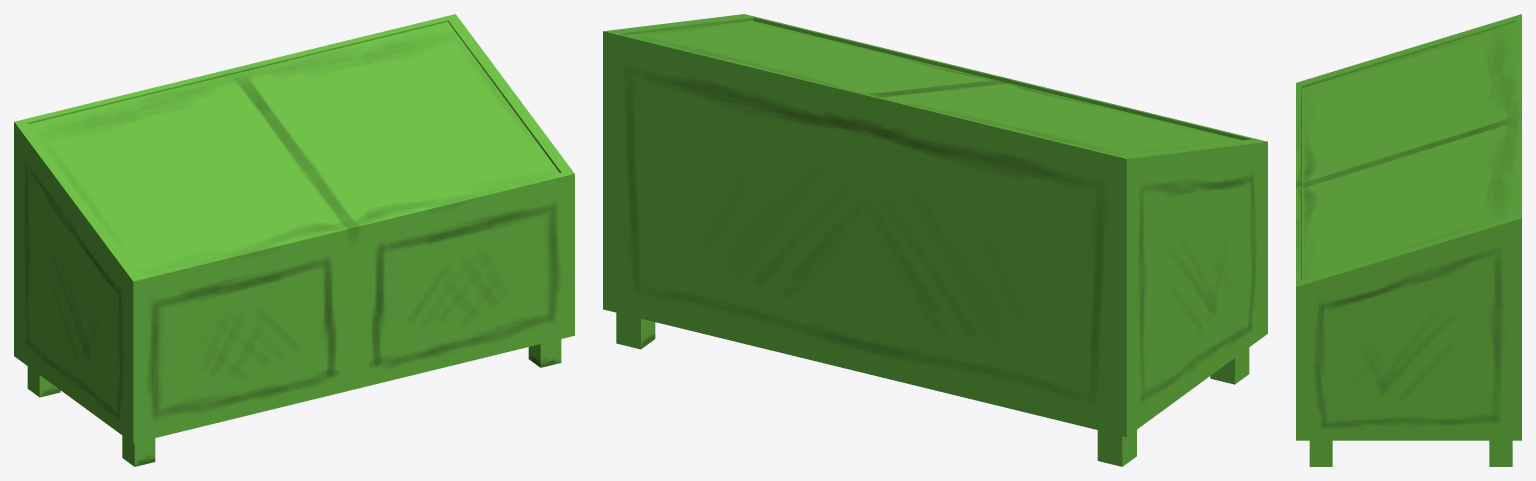
Rendered from Container_Medium.fbx.
The picture shows the model from 3 angles, left to right: view 1: azimuth 30°, elevation 25°; view 2: azimuth 150°, elevation 25°; view 3: azimuth 270°, elevation 25°; orthographic projection. The views are drawn at different scales.
Visible parts, largest first — view 1: Cube.011; view 2: Cube.011; view 3: Cube.011.
Part boxes in pixels (x1,y1,x2,y2): Cube.011: (14,14,574,466); Cube.011: (603,14,1267,466); Cube.011: (1296,14,1521,466).
Bounding box in the file's own units: 309 × 177 × 144.
